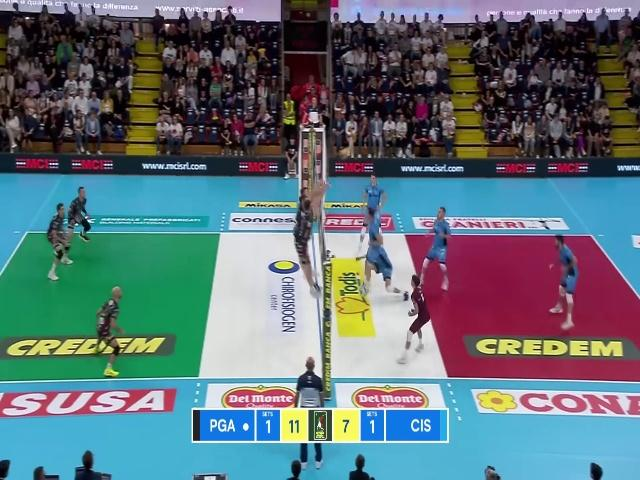volleyball court: (0, 232, 639, 380)
